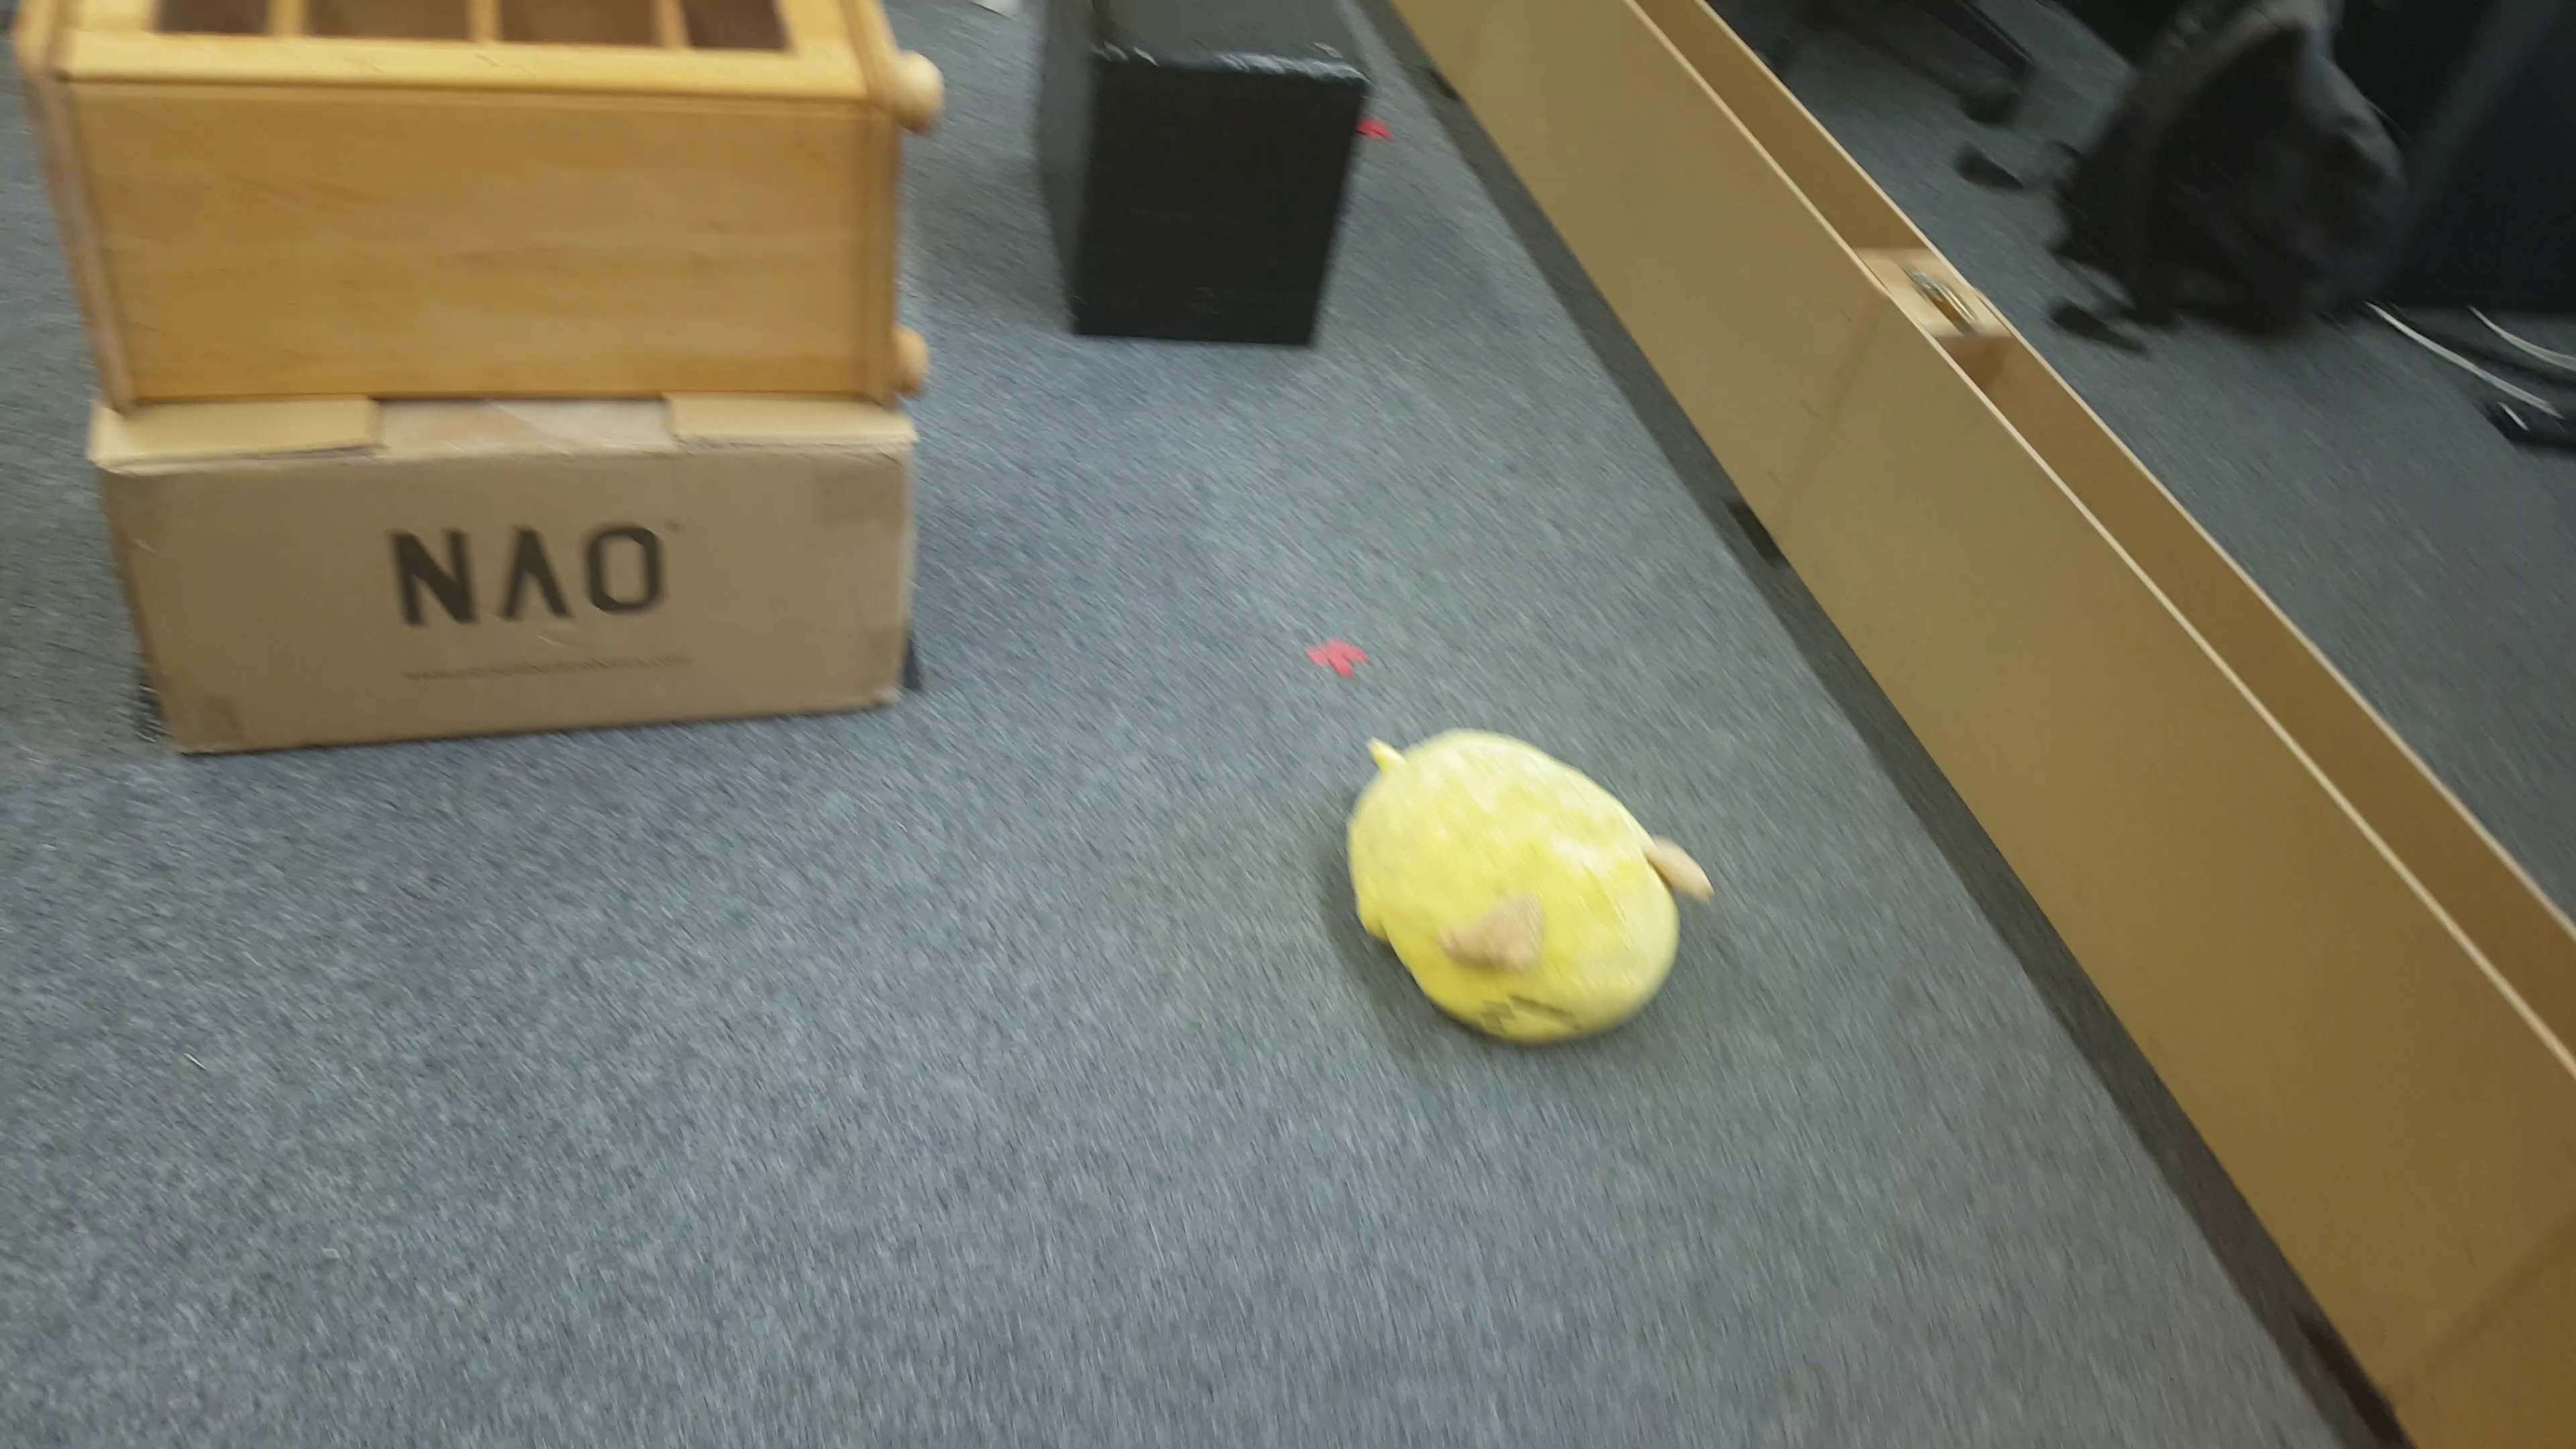grasp: (1350, 722, 1709, 1056)
push: (1033, 4, 1380, 357)
